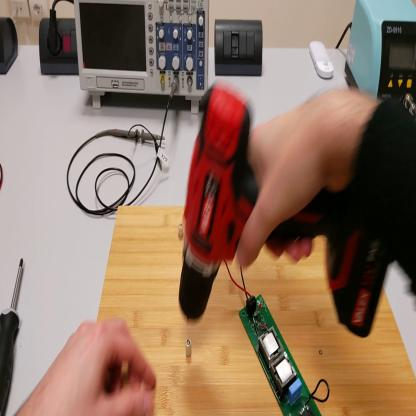electric screwdriver: (178, 82, 379, 342)
hand: (234, 88, 364, 269), (30, 318, 157, 416)
oscilloscope: (76, 1, 213, 119)
oscilloscope probe tip: (108, 128, 166, 148)
screwdriver-: (2, 260, 25, 415)
socket: (38, 20, 79, 79), (1, 16, 20, 76)
welder station: (346, 2, 416, 105)
working area: (98, 207, 416, 416)
